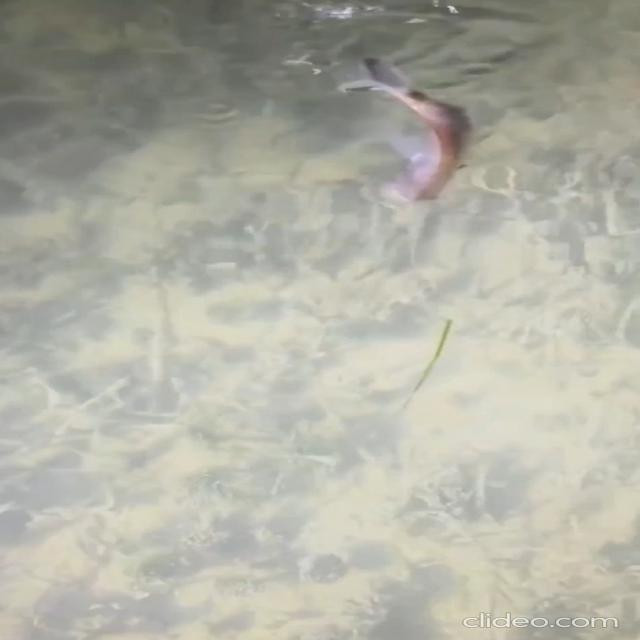fish: (336, 48, 486, 219)
